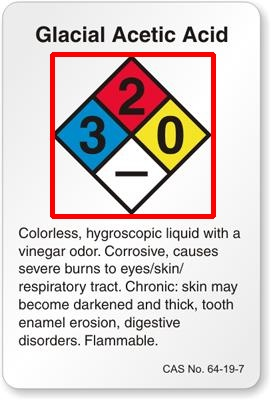nfpa: (52, 54, 213, 216)
